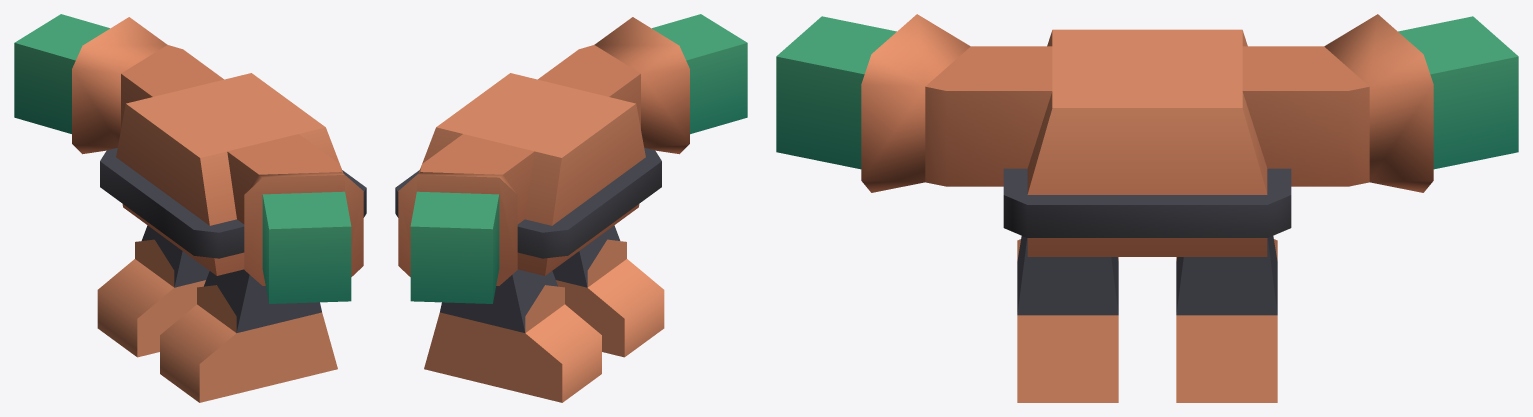
Rendered from body-mesh.002_lev5.glb.
3 views of the same model, side by side, from view 1: azimuth 30°, elevation 25°; view 2: azimuth 150°, elevation 25°; view 3: azimuth 270°, elevation 25° (orthographic). The views are drawn at different scales.
Visible parts, largest first — view 1: body-mesh.002_lev5; view 2: body-mesh.002_lev5; view 3: body-mesh.002_lev5.
Part boxes in pixels (x1=…): body-mesh.002_lev5: x1=14, y1=14, x2=366, y2=402; body-mesh.002_lev5: x1=395, y1=14, x2=747, y2=402; body-mesh.002_lev5: x1=776, y1=14, x2=1518, y2=402.
Size of the model in its own units: 1.1 by 1.47 by 3.12.
Materials: 1 (1 with a texture image).
